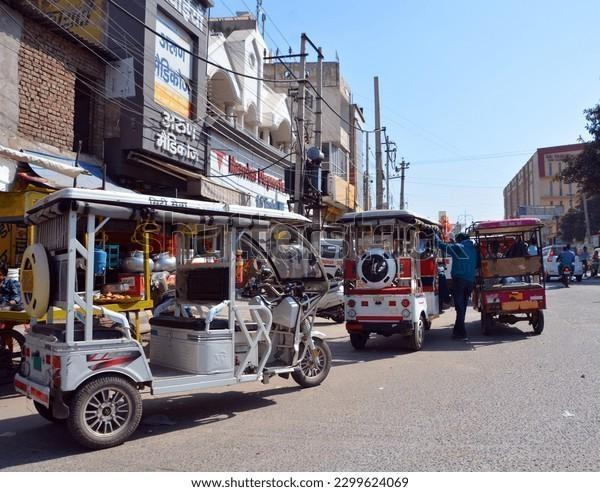keke: (6, 180, 335, 451), (338, 203, 450, 356), (462, 219, 550, 341)
